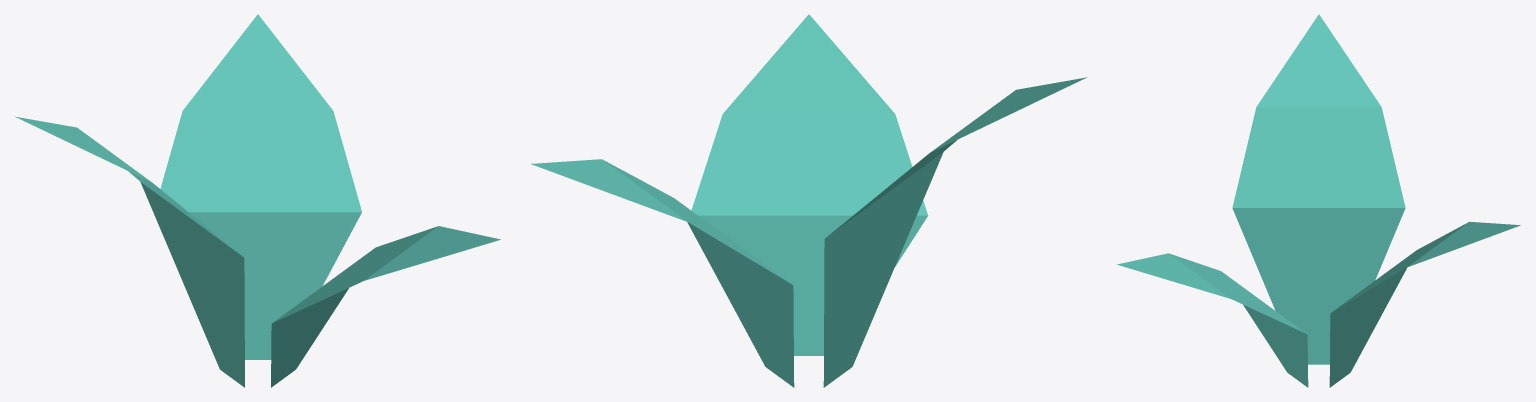
The model's file is plant_bushTriangle.glb.
3 renders of one model, left to right at view 1: azimuth 30°, elevation 25°; view 2: azimuth 150°, elevation 25°; view 3: azimuth 270°, elevation 25°, orthographic. The views are drawn at different scales.
Parts seen in each view (by area): view 1: plant_bushTriangle; view 2: plant_bushTriangle; view 3: plant_bushTriangle.
Part boxes in pixels (x1=…): plant_bushTriangle: x1=15, y1=14, x2=500, y2=387; plant_bushTriangle: x1=531, y1=14, x2=1086, y2=387; plant_bushTriangle: x1=1117, y1=14, x2=1520, y2=387.
Bounding box in the file's own units: 0.3644 × 0.2955 × 0.4136.
